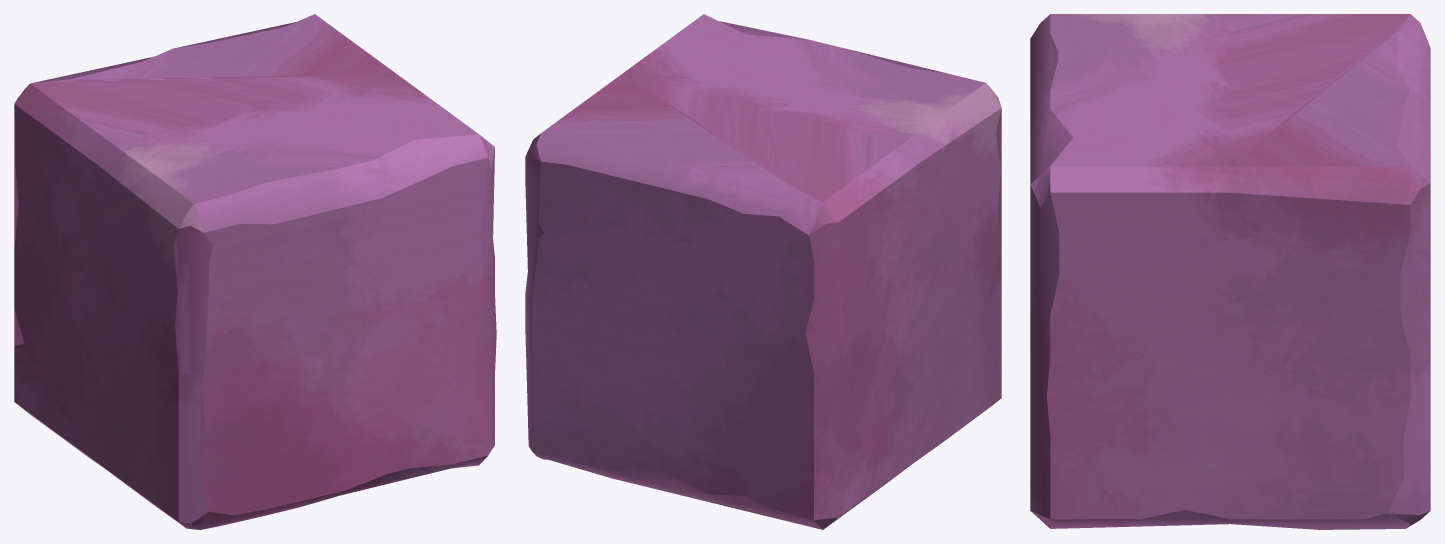
Rendered from Squish_Blocks_Playable_Release2.fbx.
3 renders of one model, left to right at view 1: azimuth 30°, elevation 25°; view 2: azimuth 150°, elevation 25°; view 3: azimuth 270°, elevation 25°, orthographic. The views are drawn at different scales.
Visible parts, largest first — view 1: Cube.001; view 2: Cube.001; view 3: Cube.001.
Boxes of the visible parts, <box> form: Cube.001: <box>14,14,496,529</box>; Cube.001: <box>525,14,1001,529</box>; Cube.001: <box>1030,14,1430,529</box>.
Bounding box in the file's own units: 201 × 200 × 200.
